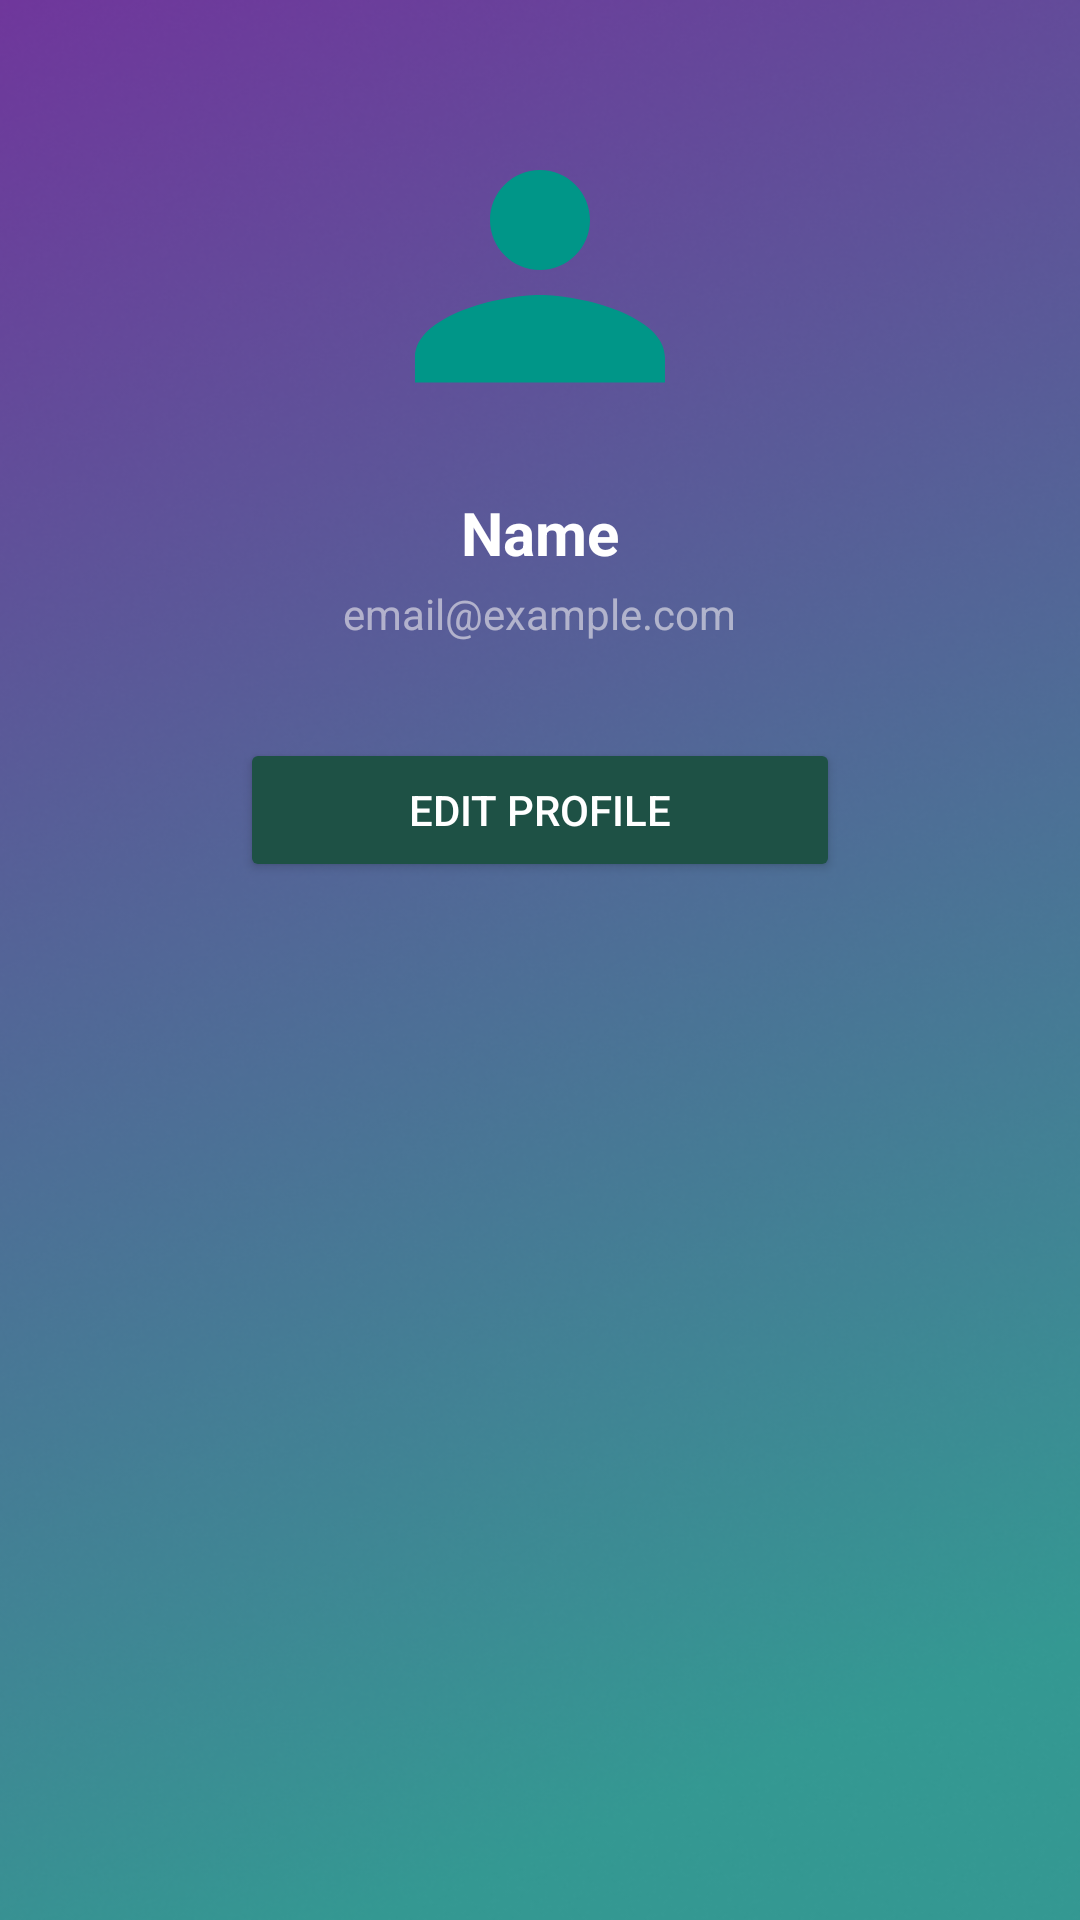

Where to tap for icons on this 1080 × 1920 app screen, as (x,y):
profile: (540,251)
